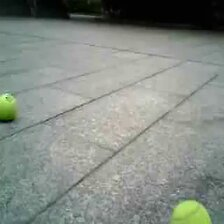tennis: (171, 200, 212, 224), (1, 95, 16, 120)
